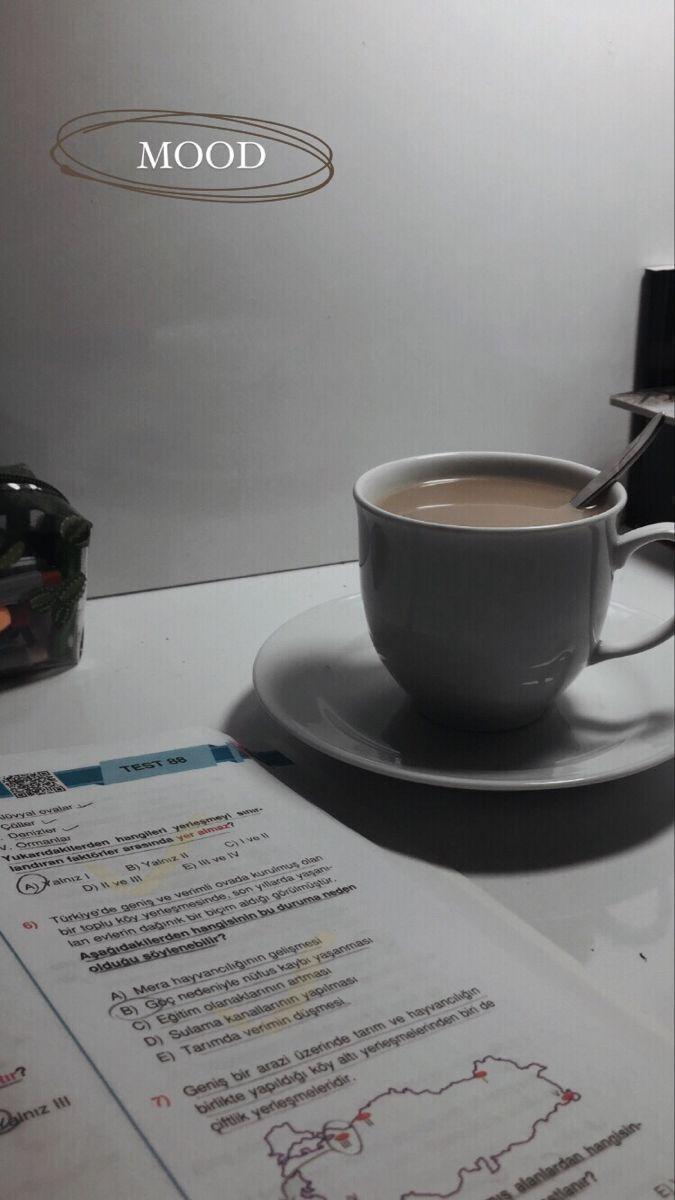cup-handle: (352, 449, 674, 727)
